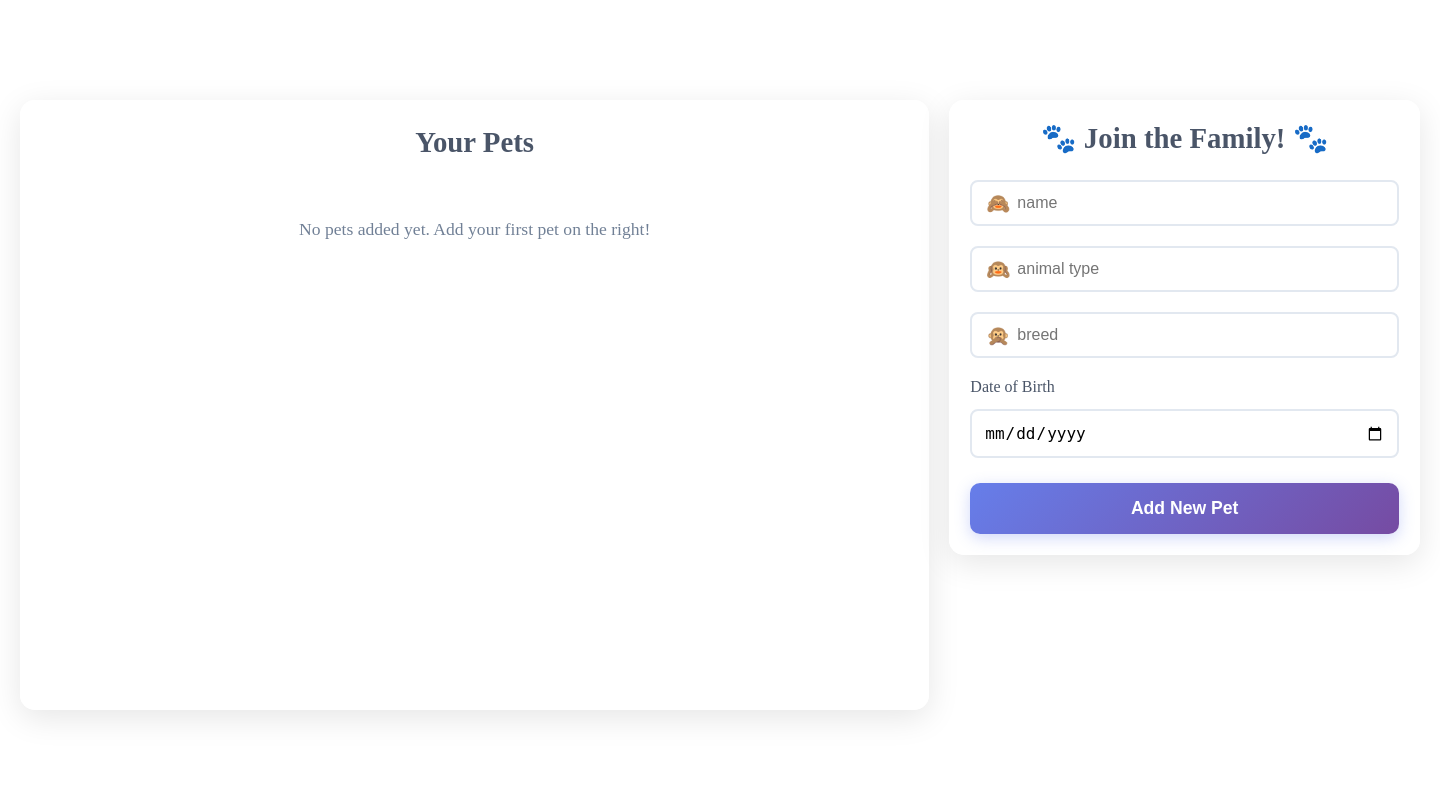
Scenario: PetMgm › shows validation errors if form is incomplete
This screenshot has width=1440, height=810.
Click the button "Add New Pet".
click(1185, 508)  # box [970,483,1399,534]
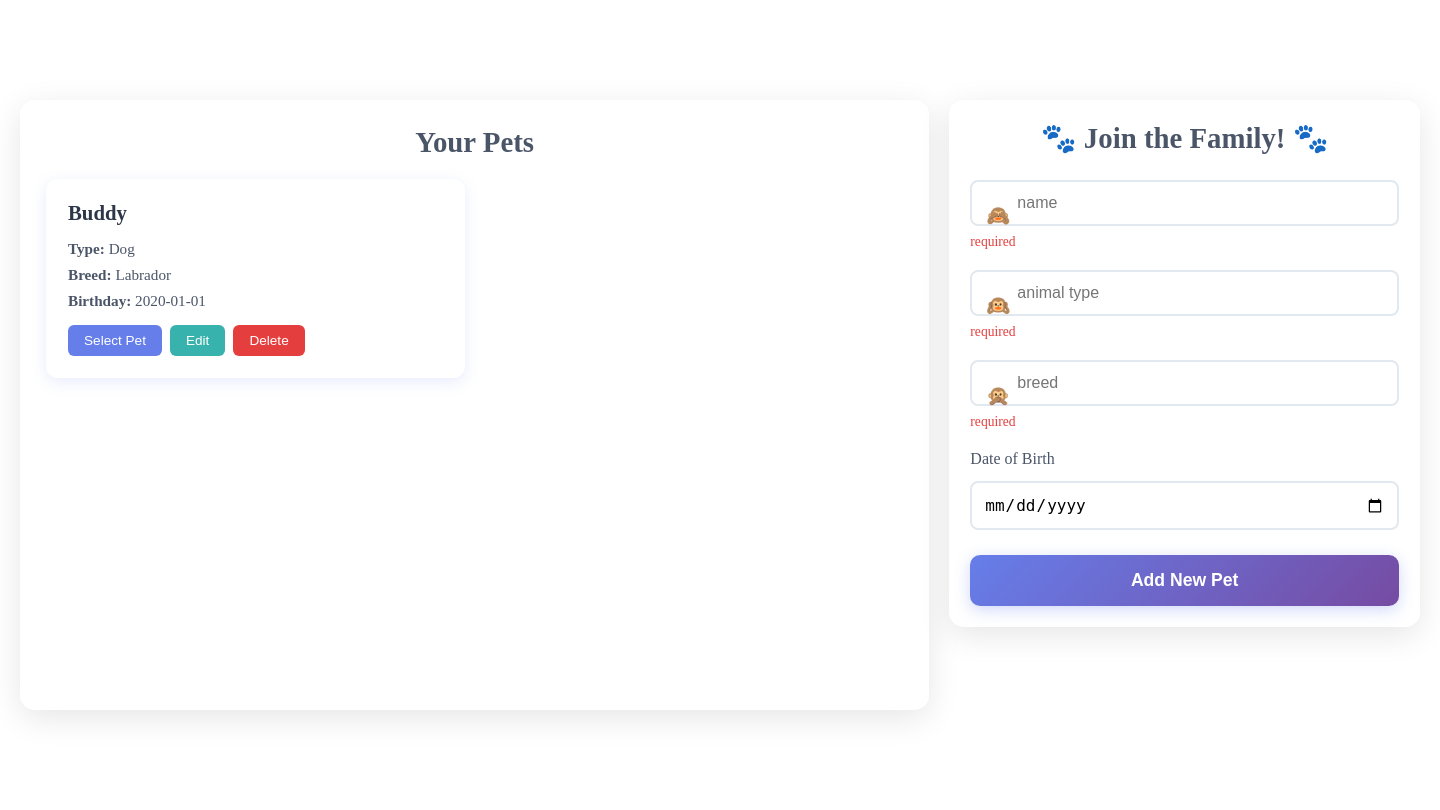
Check: the text "required" is shown 3 times, box [970,234,1016,249]; [970,324,1016,339]; [970,414,1016,429]
